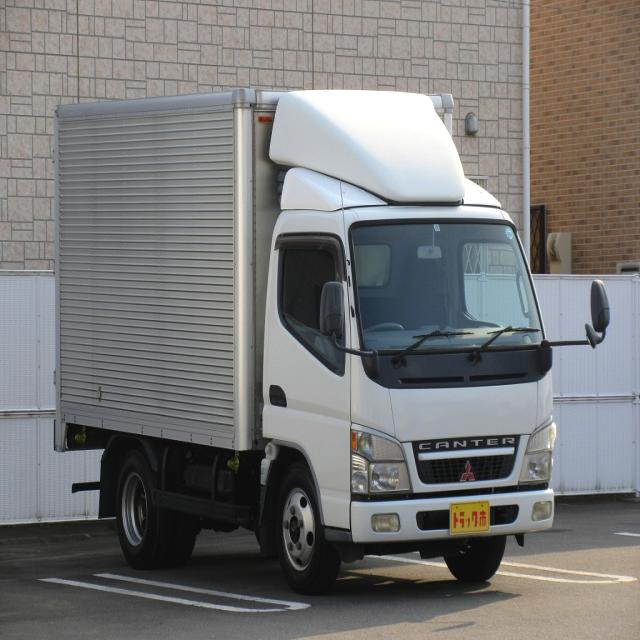truck: (46, 85, 609, 587)
